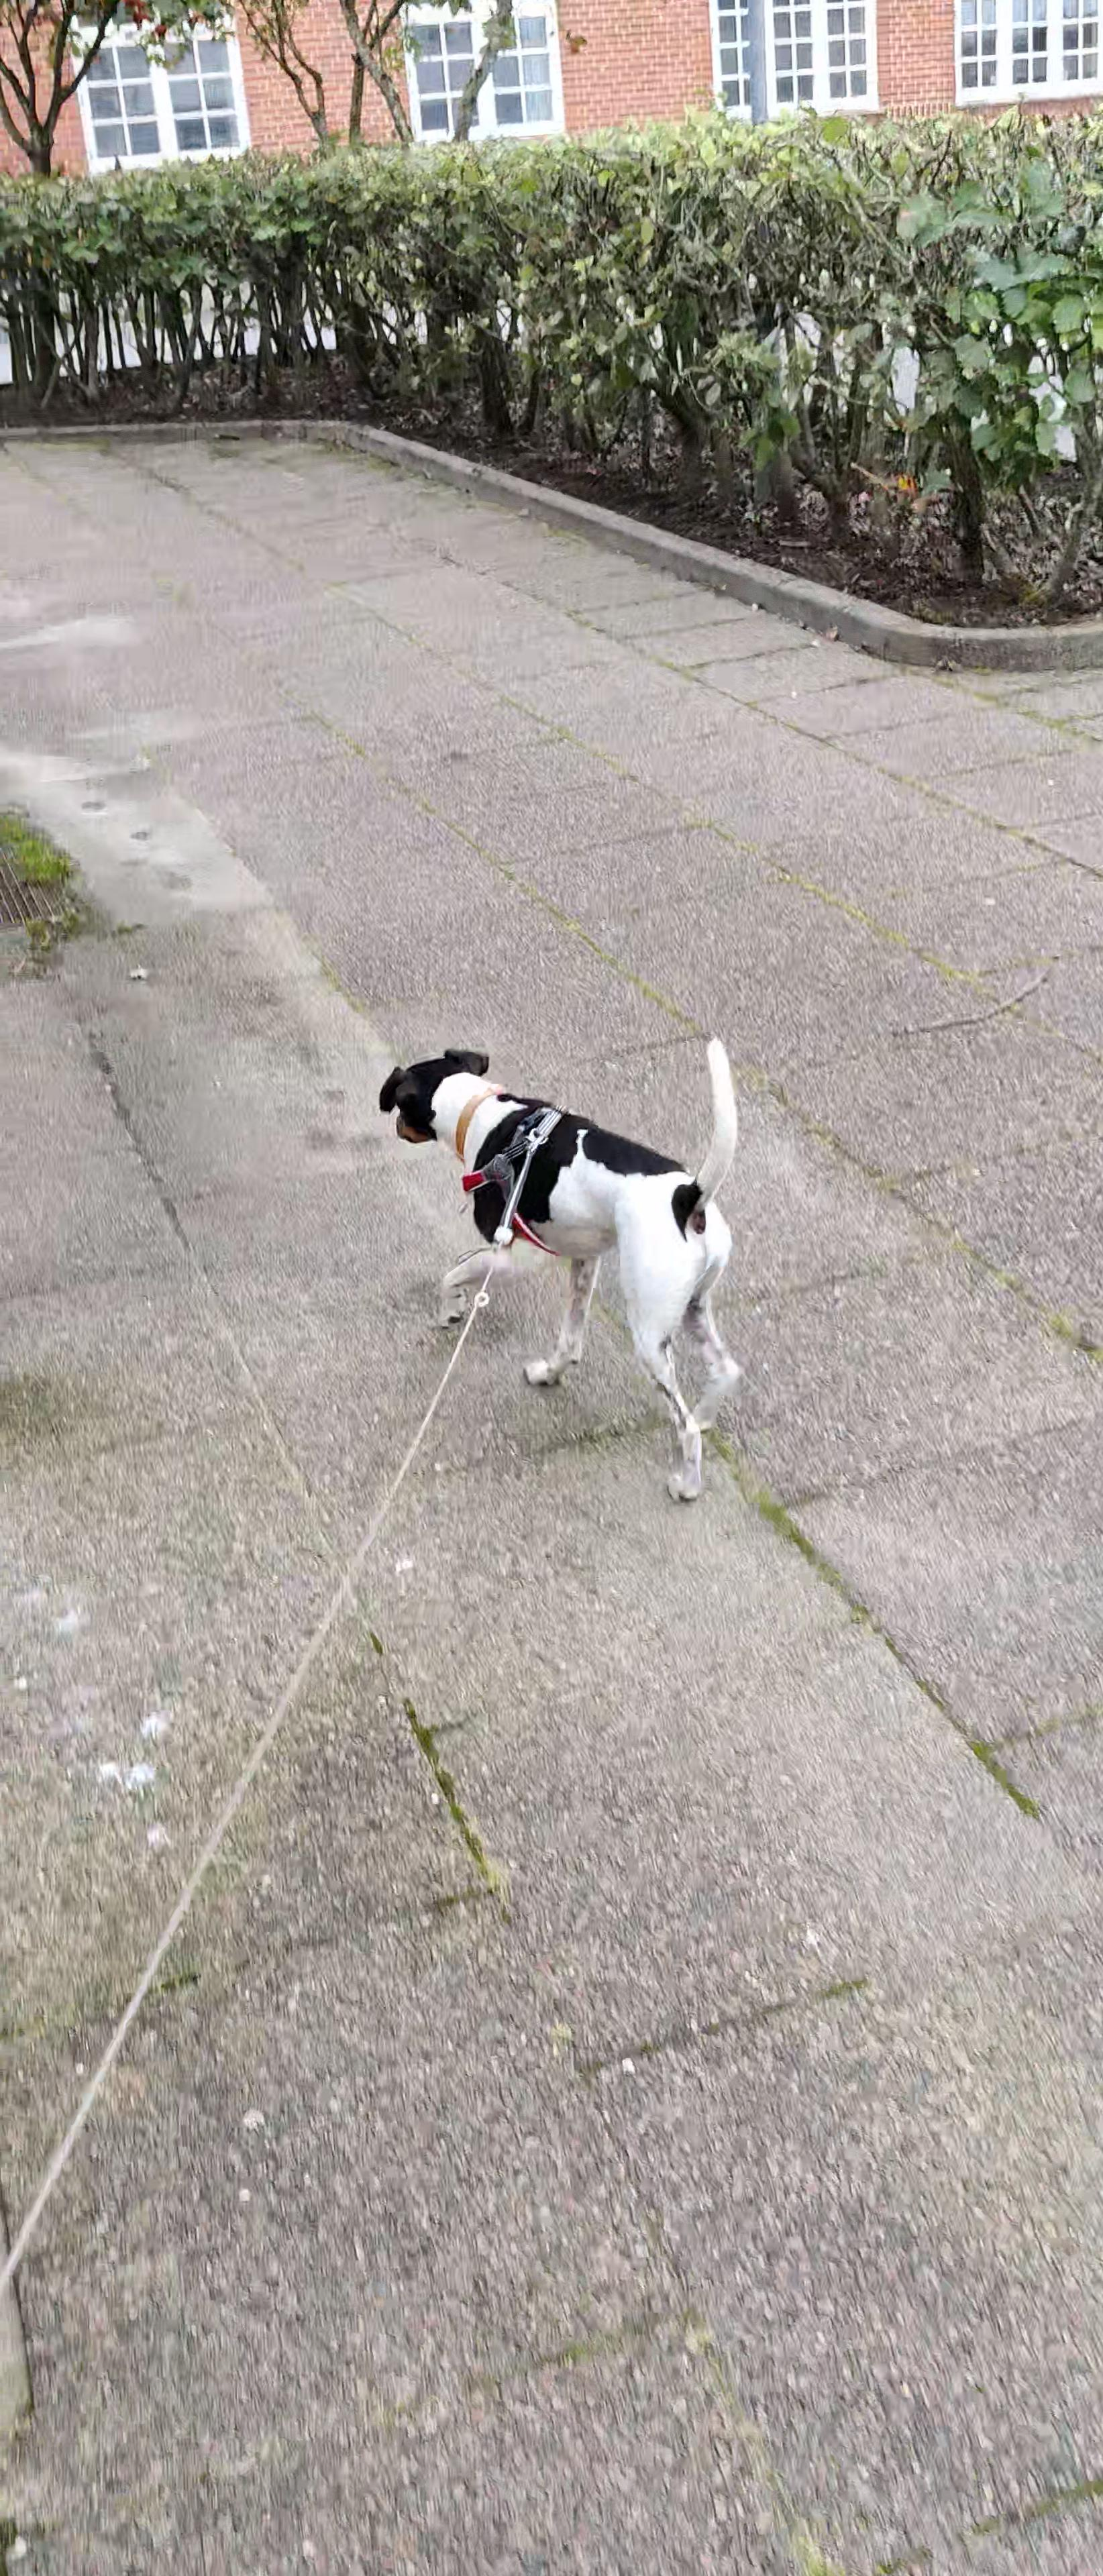Dog: (373, 1027, 748, 1508)
